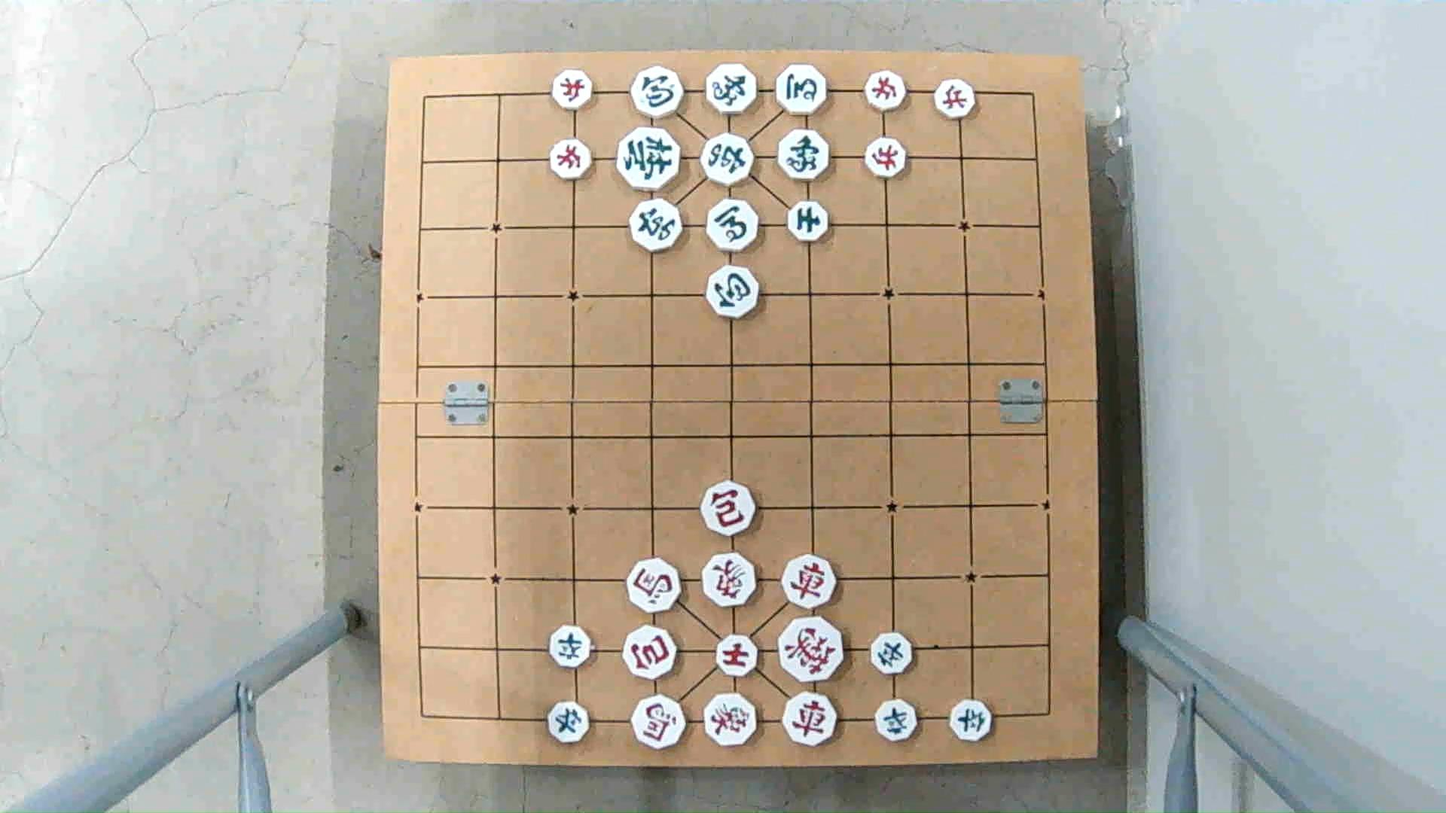cha_green: (626, 201, 685, 251), (697, 135, 753, 183)
cha_red: (780, 554, 841, 609), (782, 690, 841, 745)
jol_green: (871, 698, 921, 744), (948, 700, 995, 743), (548, 699, 590, 744), (869, 632, 914, 674), (547, 626, 591, 666)
jol_red: (863, 69, 908, 111), (549, 140, 593, 181), (933, 78, 978, 118), (865, 138, 909, 178), (551, 69, 595, 108)
ma_green: (703, 201, 758, 251), (772, 68, 828, 114)
ma_red: (626, 559, 685, 613), (631, 699, 687, 748)
po_green: (706, 265, 760, 315), (630, 70, 685, 117)
po_red: (699, 485, 755, 534), (622, 632, 678, 679)
sa_green: (783, 200, 831, 241)
sa_red: (713, 637, 758, 678)
sang_green: (702, 66, 757, 115), (778, 132, 832, 179)
sang_red: (703, 556, 761, 610), (703, 694, 761, 745)
wang_green: (614, 128, 682, 188)
wang_red: (774, 620, 847, 684)
